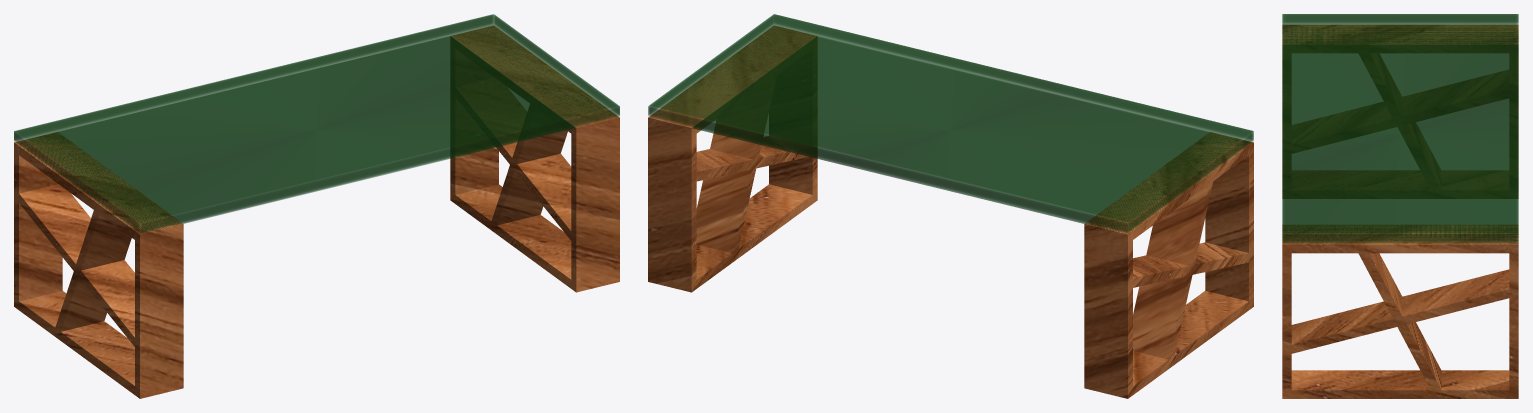
File: coffeetable.gltf
3 views of the same model, side by side, from view 1: azimuth 30°, elevation 25°; view 2: azimuth 150°, elevation 25°; view 3: azimuth 270°, elevation 25° (orthographic). The views are drawn at different scales.
Parts seen in each view (by area): view 1: Walnut leg, green glass_clonedChild, green glass; view 2: green glass_clonedChild, Walnut leg, green glass; view 3: green glass_clonedChild, green glass, Walnut leg.
Part boxes in pixels (box(x1,y1,x2,y2)): Walnut leg: box(14, 25, 619, 398); green glass_clonedChild: box(14, 14, 619, 232); green glass: box(14, 14, 619, 233); green glass_clonedChild: box(648, 14, 1253, 232); Walnut leg: box(648, 25, 1253, 398); green glass: box(648, 14, 1253, 233); green glass_clonedChild: box(1282, 14, 1518, 243); green glass: box(1283, 14, 1518, 243); Walnut leg: box(1282, 24, 1518, 398).
Size of the model in its own units: 1.1 by 0.385 by 0.5.
2 materials, 2 textured.
